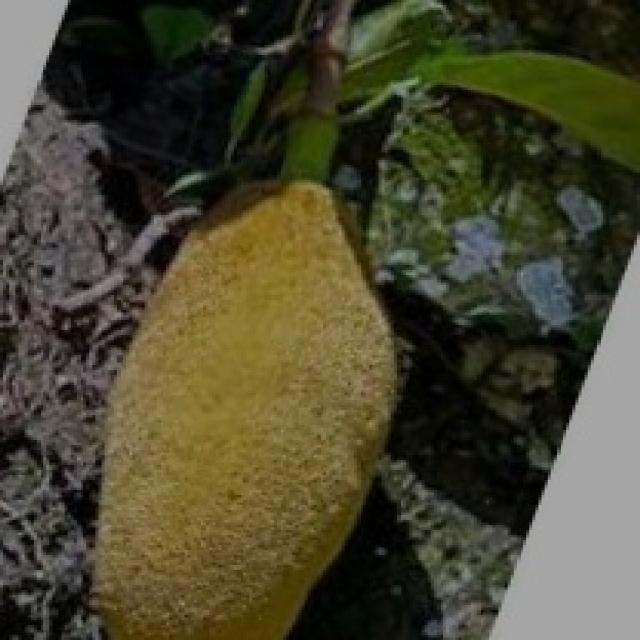Fruit: (37, 225, 465, 640)
